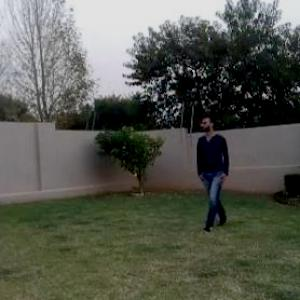follow: (189, 108, 235, 242)
